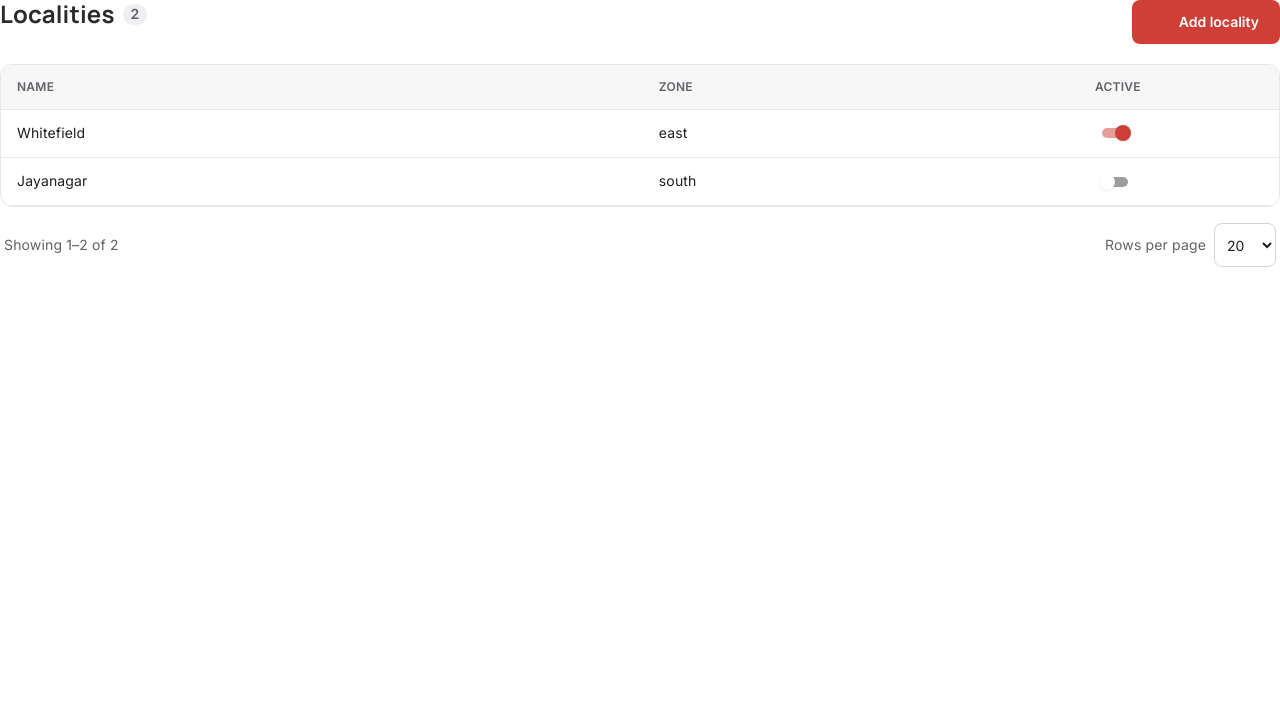
Test: MasterDataPage › create › refuses to submit a record the schema rejects
This screenshot has width=1280, height=720.
Expected: the text "Whitefield" is shown, left=1, top=110, right=643, bottom=158
Click the button "Add locality" at (1206, 22), box left=1132, top=0, right=1279, bottom=44
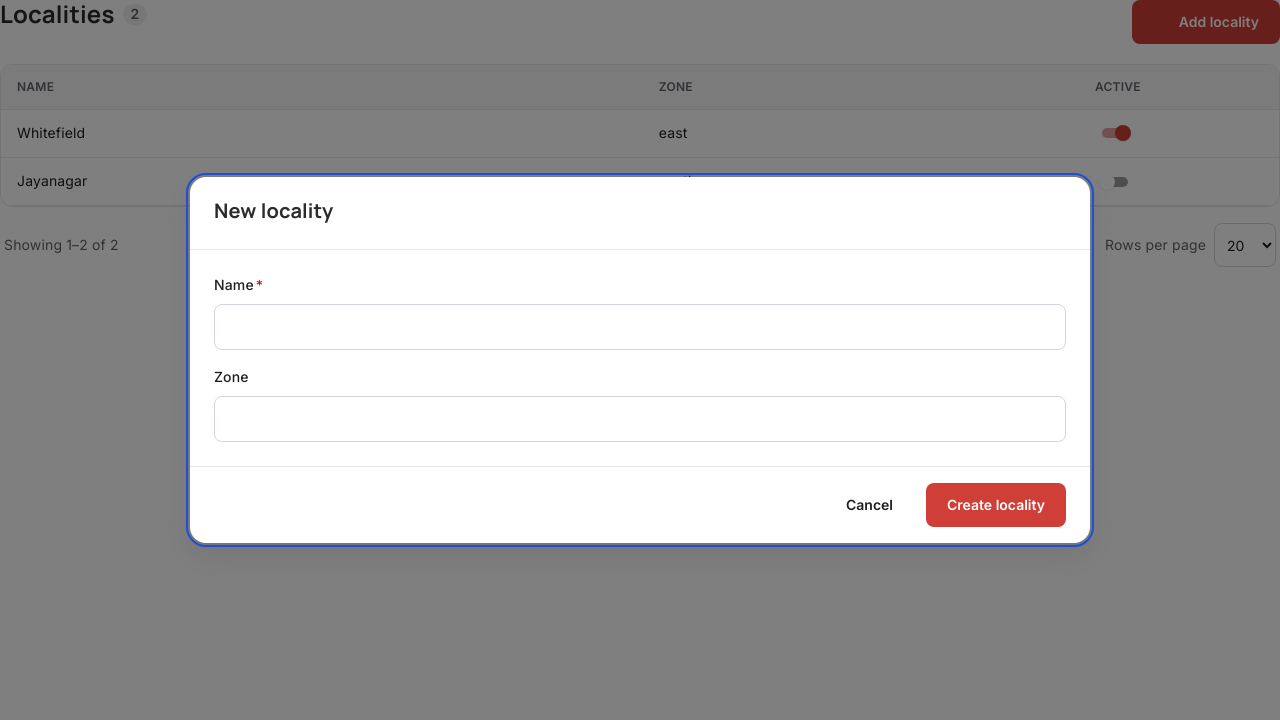
Click the button "Create locality" at (996, 505), box left=926, top=483, right=1066, bottom=527
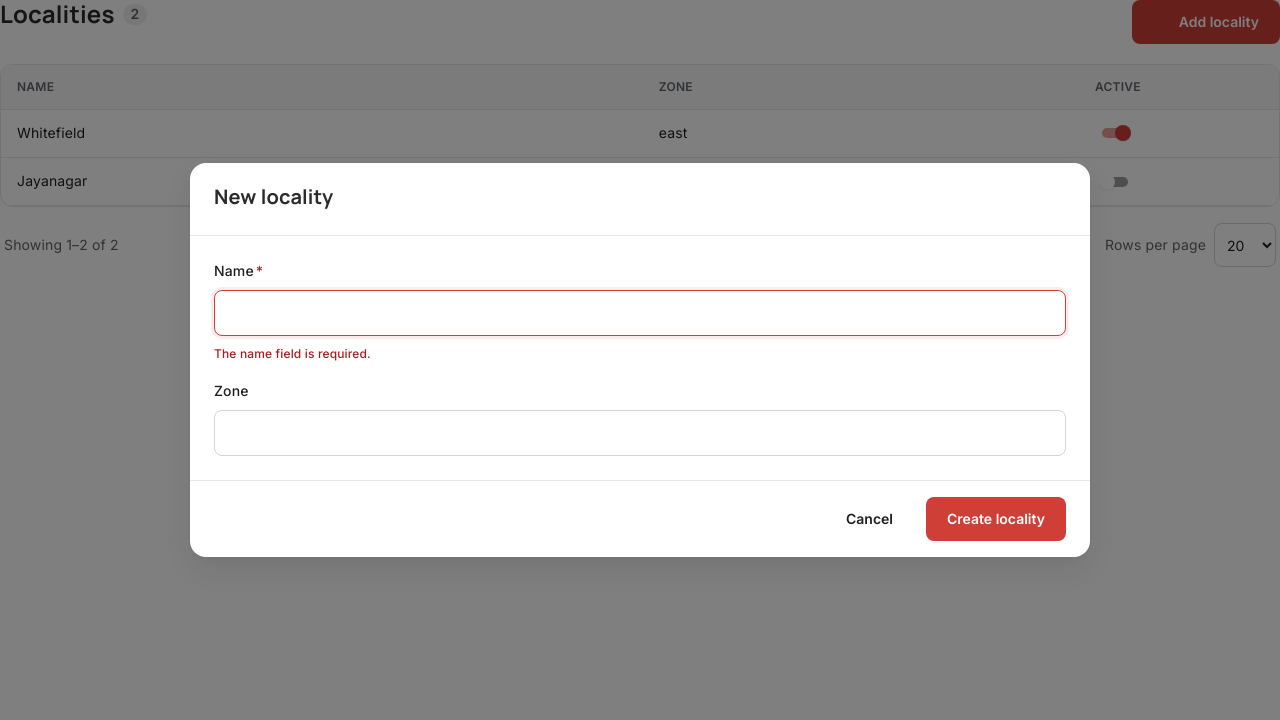
Expected: the text "The name field is required." is shown, left=214, top=346, right=371, bottom=361
